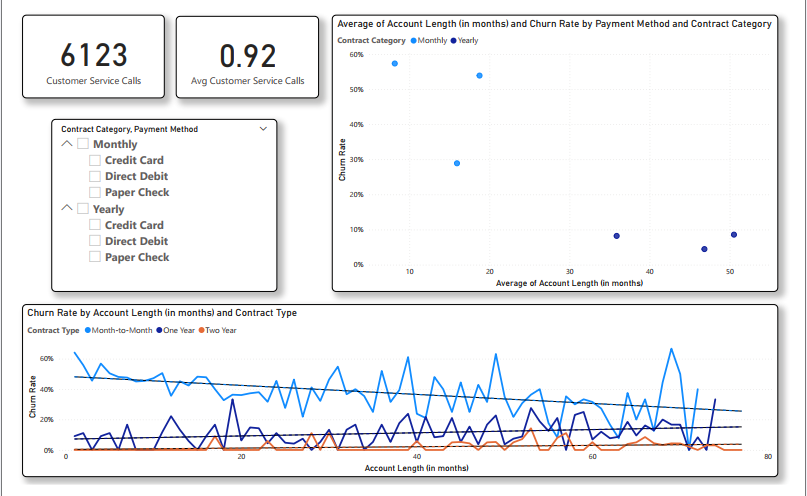

The page's visual inventory and layout, read from the dashboard file:
{"tool":"powerbi","page":{"name":"Payment and Contract","canvas":[1300,800],"ordinal":2},"visuals":[{"type":"card","fields":{"Values":["Sum(Databel - Data.Customer Service Calls)"]},"box":[9.5,11.1,239.7,139.7],"z":0},{"type":"card","fields":{"Values":["Databel - Data.Avg Customer Service Calls"]},"box":[268.3,12.7,239.7,138.1],"z":1000},{"type":"scatterChart","fields":{"Y":["Databel - Data.Churn Rate"],"X":["Databel - Data.Account Length (in months)"],"Category":["Databel - Data.Payment Method"],"Series":["Databel - Data.Contract Category"]},"box":[530.2,11.1,749.2,465.1],"z":2000},{"type":"slicer","fields":{"Values":["Databel - Data.Contract Category","Databel - Data.Payment Method"]},"box":[58.7,185.7,379.4,290.5],"z":3000},{"type":"lineChart","fields":{"Y":["Databel - Data.Churn Rate"],"Category":["Databel - Data.Account Length (in months)"],"Series":["Databel - Data.Contract Type"]},"box":[9.5,496.8,1269.8,290.5],"z":4000}]}

Visuals, with their boxes in screenshot pixels (x1, y1, x2, y2), scaled from the page's 1300x800 canvas onto the 807x496 screenshot:
card - Sum(Databel - Data.Customer Service Calls): <bbox>6, 7, 155, 93</bbox>
card - Databel - Data.Avg Customer Service Calls: <bbox>167, 8, 315, 93</bbox>
scatterChart - Databel - Data.Churn Rate x Databel - Data.Account Length (in months): <bbox>329, 7, 794, 295</bbox>
slicer - Databel - Data.Contract Category x Databel - Data.Payment Method: <bbox>36, 115, 272, 295</bbox>
lineChart - Databel - Data.Churn Rate x Databel - Data.Account Length (in months): <bbox>6, 308, 794, 488</bbox>
